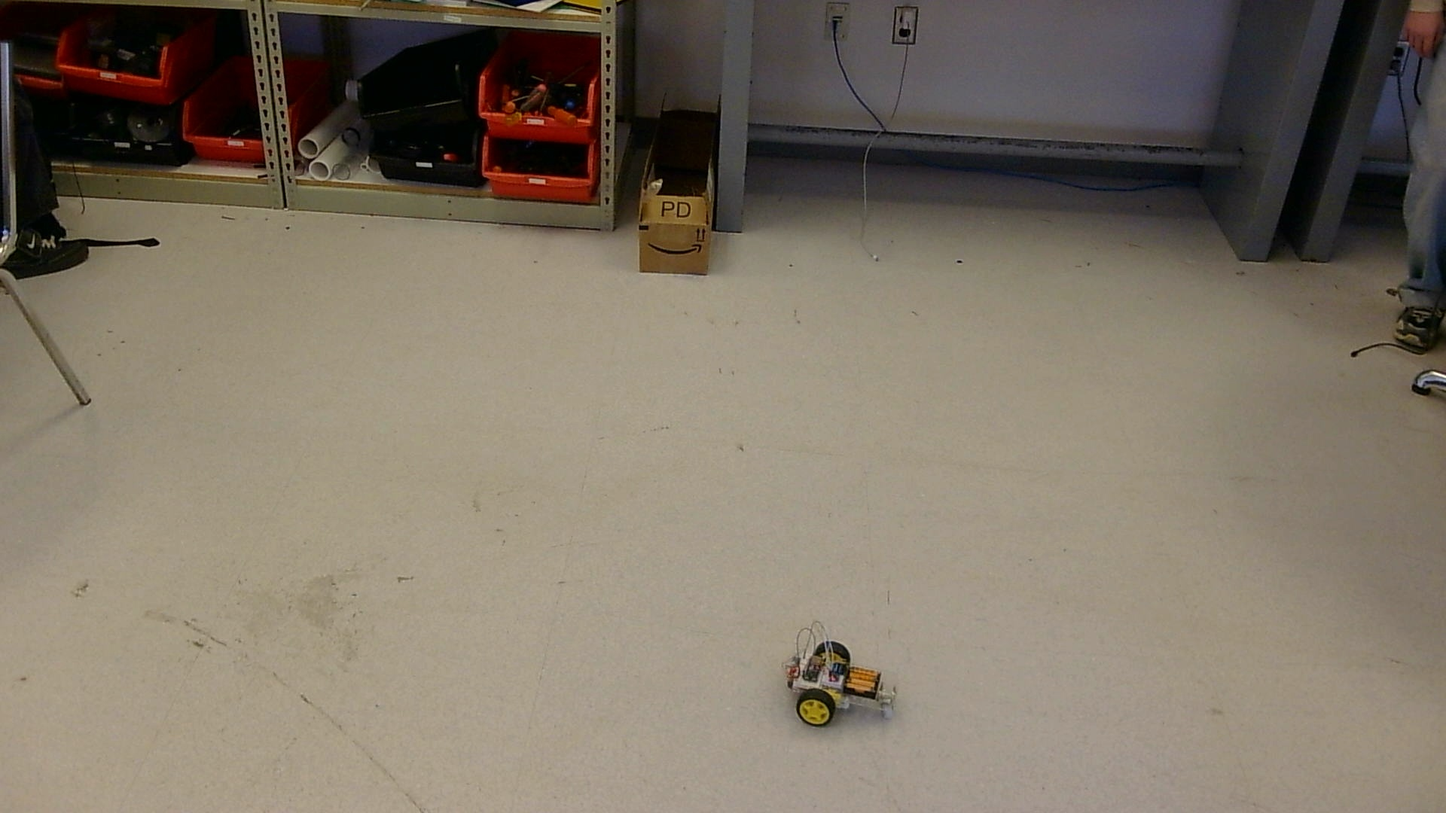robot: (782, 621, 896, 726)
